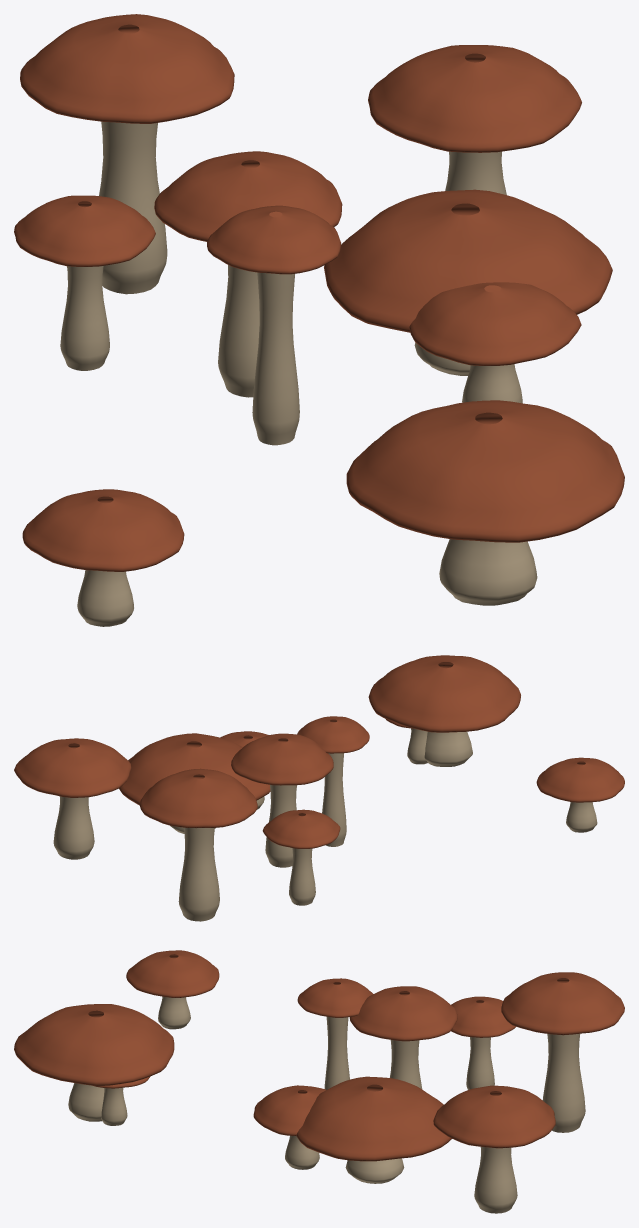
The model's file is detail_mushrooms.glb.
The picture shows the model from 3 angles, top to bottom: view 1: azimuth 30°, elevation 25°; view 2: azimuth 150°, elevation 25°; view 3: azimuth 270°, elevation 25°; orthographic projection. The views are drawn at different scales.
Visible parts, largest first — view 1: GilledMushroomCap10, GilledMushroomCap1, GilledMushroomCap8, GilledMushroomCap9, GilledMushroomCap5, GilledMushroomCap7, GilledMushroomCap2, GilledMushroomCap4, TaperedMushroomStem8, GilledMushroomCap3, TaperedMushroomStem3, TaperedMushroomStem10 (+5 smaller); view 2: GilledMushroomCap10, GilledMushroomCap8, GilledMushroomCap9, GilledMushroomCap1, GilledMushroomCap2, TaperedMushroomStem8, GilledMushroomCap7, GilledMushroomCap4, TaperedMushroomStem9, GilledMushroomCap3, TaperedMushroomStem10, TaperedMushroomStem3 (+5 smaller); view 3: GilledMushroomCap10, GilledMushroomCap1, GilledMushroomCap8, GilledMushroomCap9, GilledMushroomCap2, GilledMushroomCap7, TaperedMushroomStem8, TaperedMushroomStem9, GilledMushroomCap5, GilledMushroomCap3, GilledMushroomCap4, TaperedMushroomStem3 (+7 smaller).
Boxes of the visible parts, x1,y1,x2,y2 form: GilledMushroomCap10: (346,400,624,542); GilledMushroomCap1: (324,189,612,332); GilledMushroomCap8: (20,14,234,123); GilledMushroomCap9: (368,45,581,152); GilledMushroomCap5: (409,282,581,365); GilledMushroomCap7: (22,489,184,571); GilledMushroomCap2: (154,151,342,241); GilledMushroomCap4: (14,195,155,266); TaperedMushroomStem8: (99,121,167,294); GilledMushroomCap3: (207,205,341,274); TaperedMushroomStem3: (252,272,299,445); TaperedMushroomStem10: (439,539,537,605); GilledMushroomCap10: (368,655,520,732); GilledMushroomCap8: (139,768,257,828); GilledMushroomCap9: (14,738,131,797); GilledMushroomCap1: (119,733,270,805); GilledMushroomCap2: (231,733,333,785); TaperedMushroomStem8: (178,827,219,921); GilledMushroomCap7: (536,757,624,802); GilledMushroomCap4: (262,809,340,848); TaperedMushroomStem9: (53,796,94,859); GilledMushroomCap3: (297,716,369,753); TaperedMushroomStem10: (424,731,472,766); TaperedMushroomStem3: (322,753,346,846); GilledMushroomCap10: (14,1004,174,1085); GilledMushroomCap1: (296,1076,451,1161); GilledMushroomCap8: (501,972,624,1035); GilledMushroomCap9: (433,1085,555,1148); GilledMushroomCap2: (349,986,457,1041); GilledMushroomCap7: (126,950,219,997); TaperedMushroomStem8: (542,1033,585,1132); TaperedMushroomStem9: (474,1146,517,1213); GilledMushroomCap5: (253,1085,325,1135); GilledMushroomCap3: (297,978,373,1017); GilledMushroomCap4: (451,996,515,1037); TaperedMushroomStem3: (324,1016,349,1089).
Size of the model in its own units: 1.05 by 0.3104 by 1.18.
